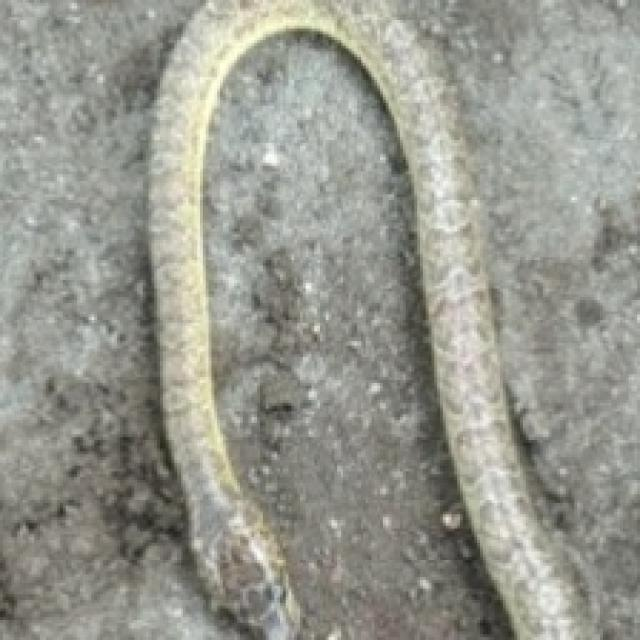mullers wolf snake: (149, 0, 600, 637)
